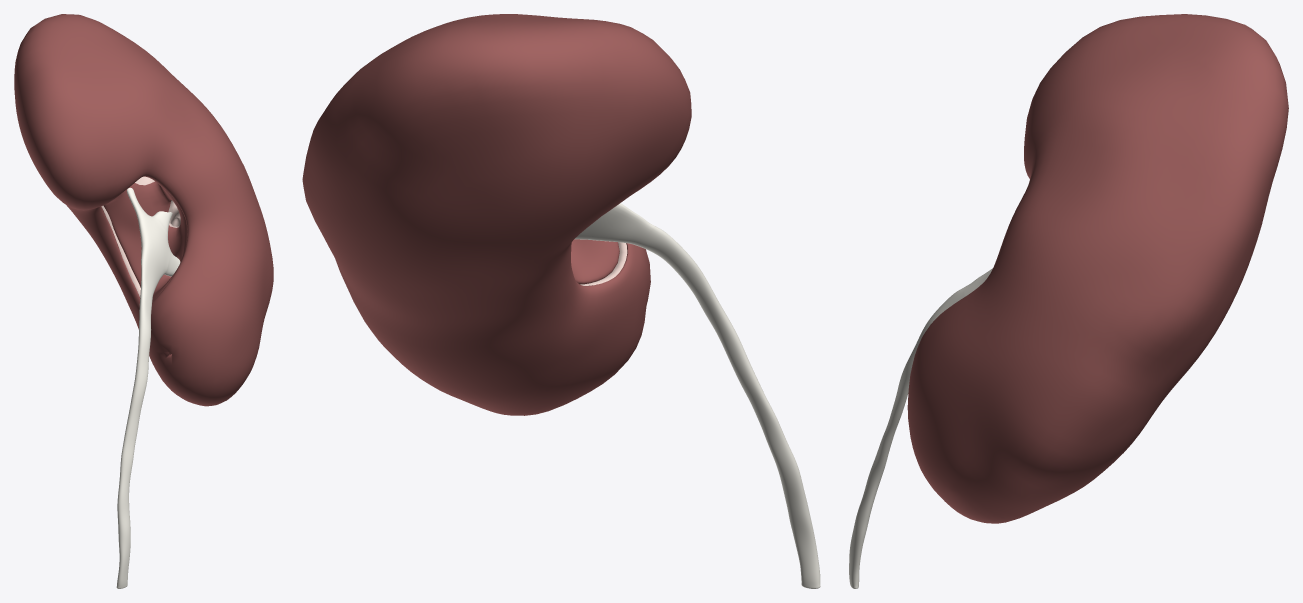
File: VH_M_Kidney_Left.glb
The picture shows the model from 3 angles, left to right: view 1: azimuth 30°, elevation 25°; view 2: azimuth 150°, elevation 25°; view 3: azimuth 270°, elevation 25°; orthographic projection. The views are drawn at different scales.
Parts seen in each view (by area): view 1: VHM_kidney_capsule_L, VHM_hilum_of_kidney_L, VHM_ureter_L, VHM_renal_pelvis_L, VHM_outer_cortex_of_kidney_L, VHM_renal_column_L; view 2: VHM_kidney_capsule_L, VHM_ureter_L, VHM_renal_pelvis_L, VHM_hilum_of_kidney_L; view 3: VHM_kidney_capsule_L, VHM_ureter_L.
Boxes of the visible parts, x1=… form: VHM_kidney_capsule_L: x1=14, y1=14, x2=273, y2=406; VHM_hilum_of_kidney_L: x1=103, y1=176, x2=187, y2=301; VHM_ureter_L: x1=116, y1=291, x2=152, y2=588; VHM_renal_pelvis_L: x1=137, y1=214, x2=170, y2=298; VHM_outer_cortex_of_kidney_L: x1=101, y1=205, x2=140, y2=297; VHM_renal_column_L: x1=135, y1=176, x2=180, y2=227; VHM_kidney_capsule_L: x1=302, y1=14, x2=691, y2=415; VHM_ureter_L: x1=634, y1=226, x2=820, y2=588; VHM_renal_pelvis_L: x1=574, y1=203, x2=654, y2=244; VHM_hilum_of_kidney_L: x1=571, y1=239, x2=619, y2=284; VHM_kidney_capsule_L: x1=907, y1=14, x2=1288, y2=523; VHM_ureter_L: x1=849, y1=287, x2=964, y2=588.
Bounding box in the file's own units: 0.0773 × 0.1442 × 0.0951.
